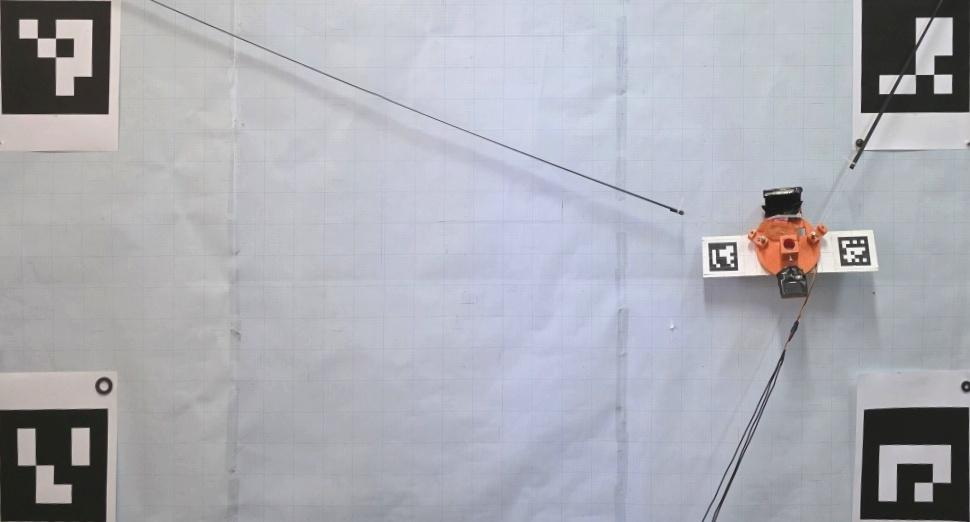robot: (746, 186, 827, 299)
